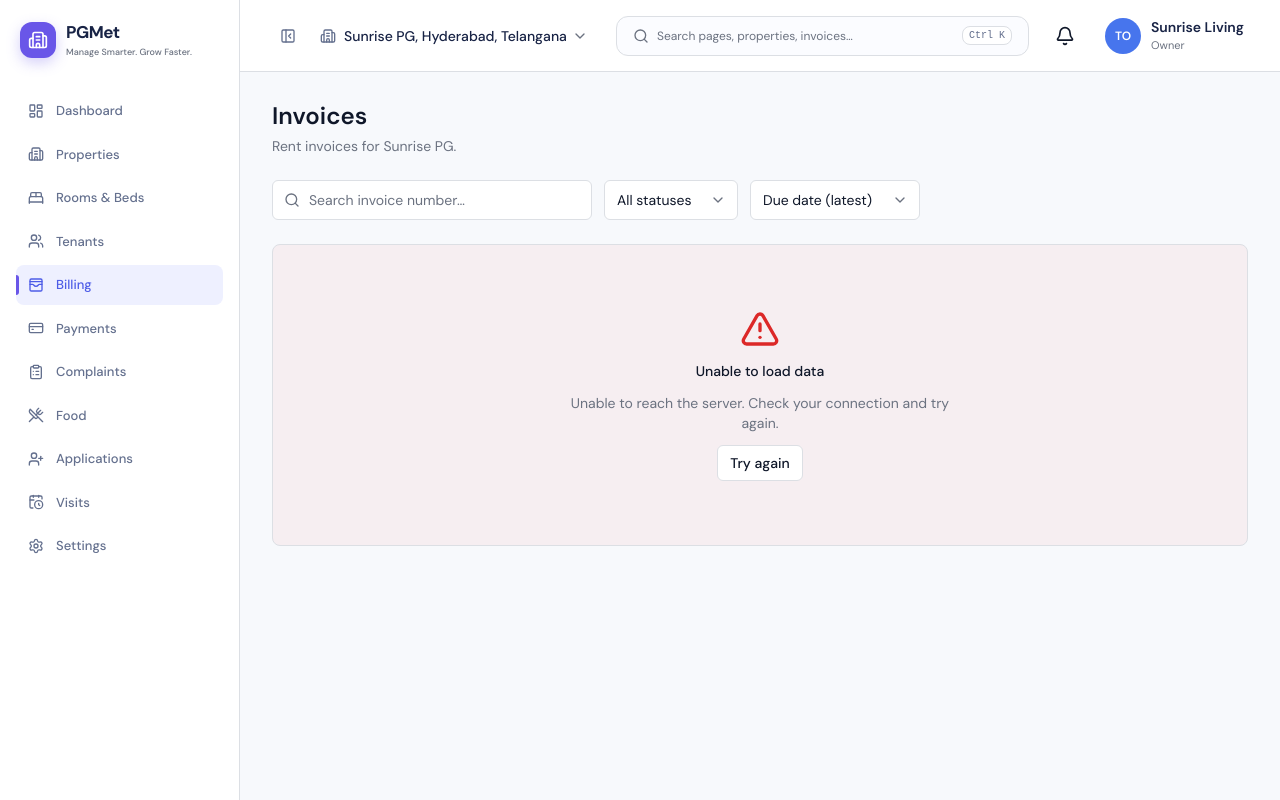
Scenario: API error experience › network failure: shows a retry that recovers once the connection is back
expect the message shows "Unable to reach the server": met, box 571,394 -> 949,432
Click the button "Try again".
click(760, 463)  # box 717,445 -> 803,481
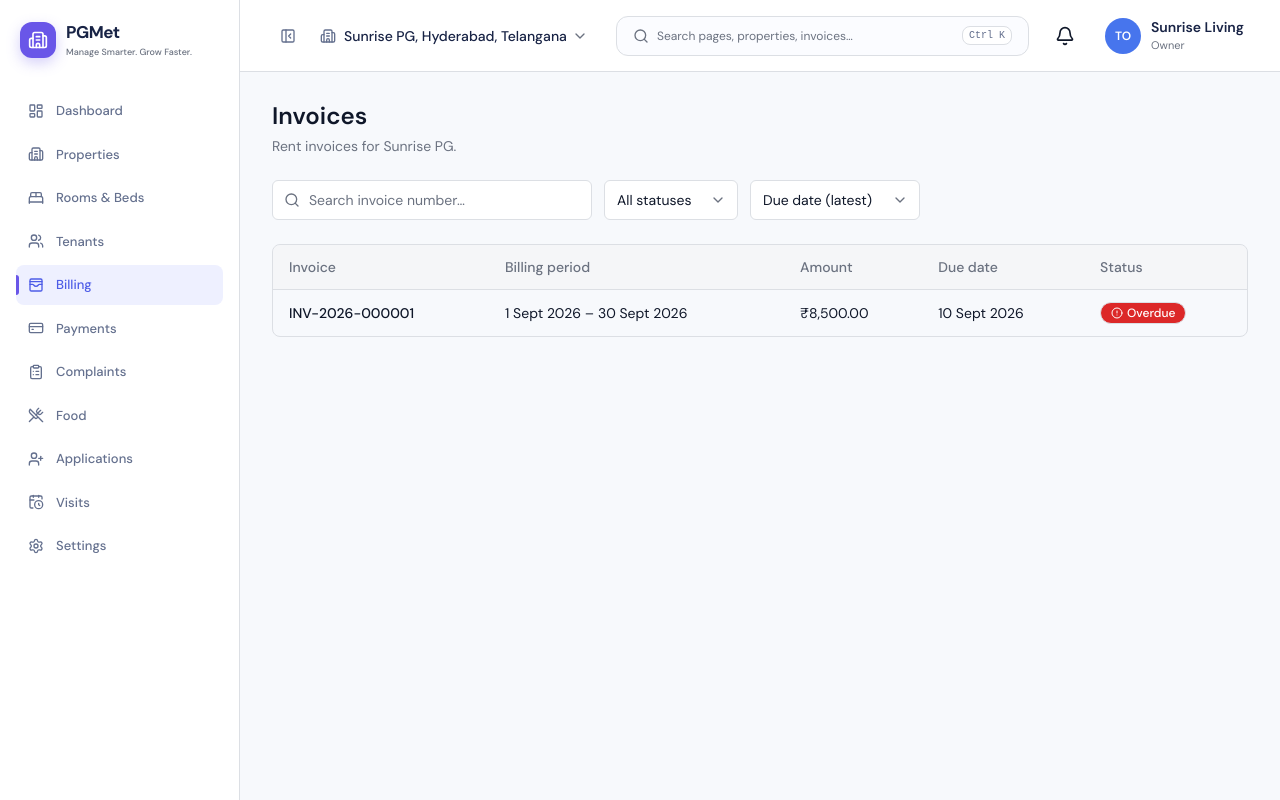
expect the text "INV-2026-000001" is shown: met, box 289,304 -> 414,322
